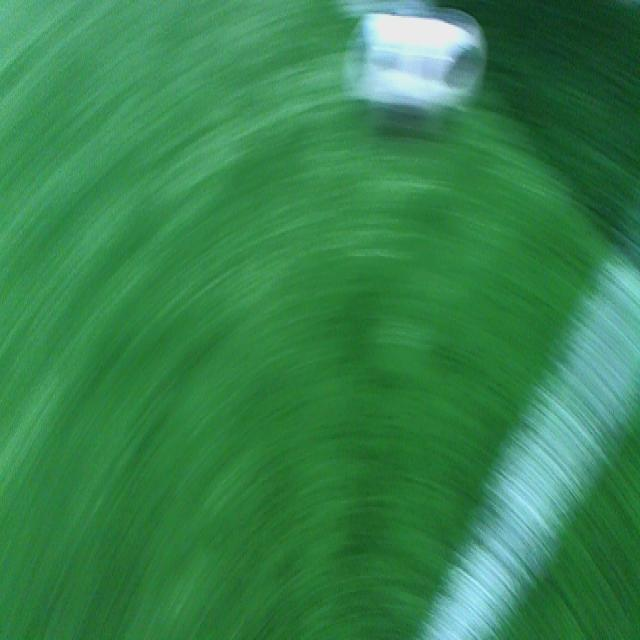ball: (344, 0, 490, 121)
